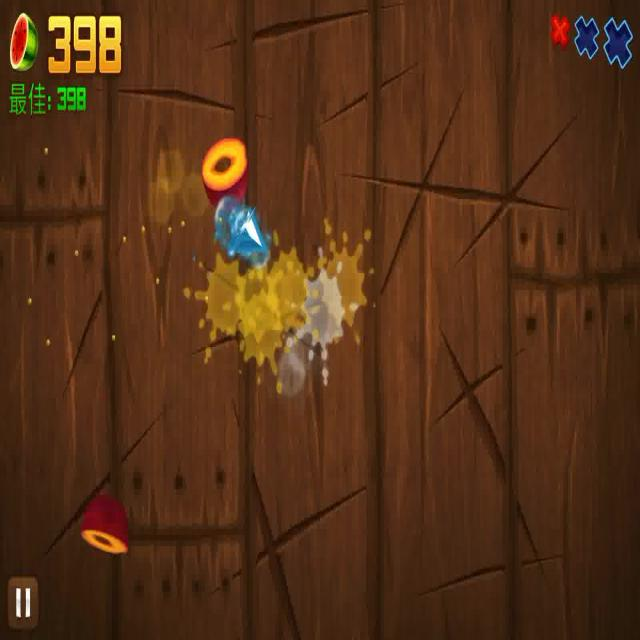fruit: (84, 491, 130, 560), (199, 136, 250, 198)
